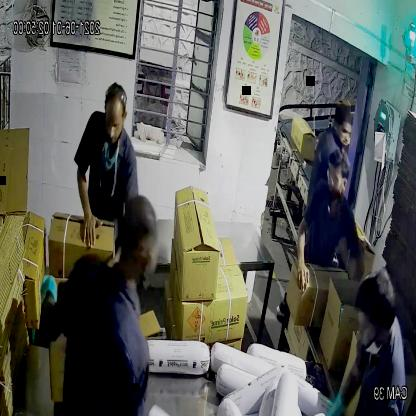goggles: (326, 168, 350, 191)
no_goggles: (104, 112, 129, 136)
